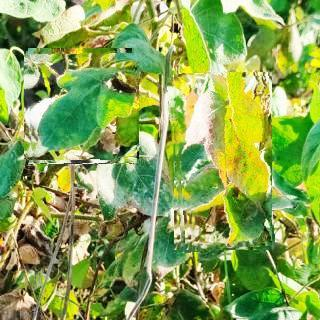blight: (170, 72, 272, 252)
curl: (25, 49, 137, 163)
